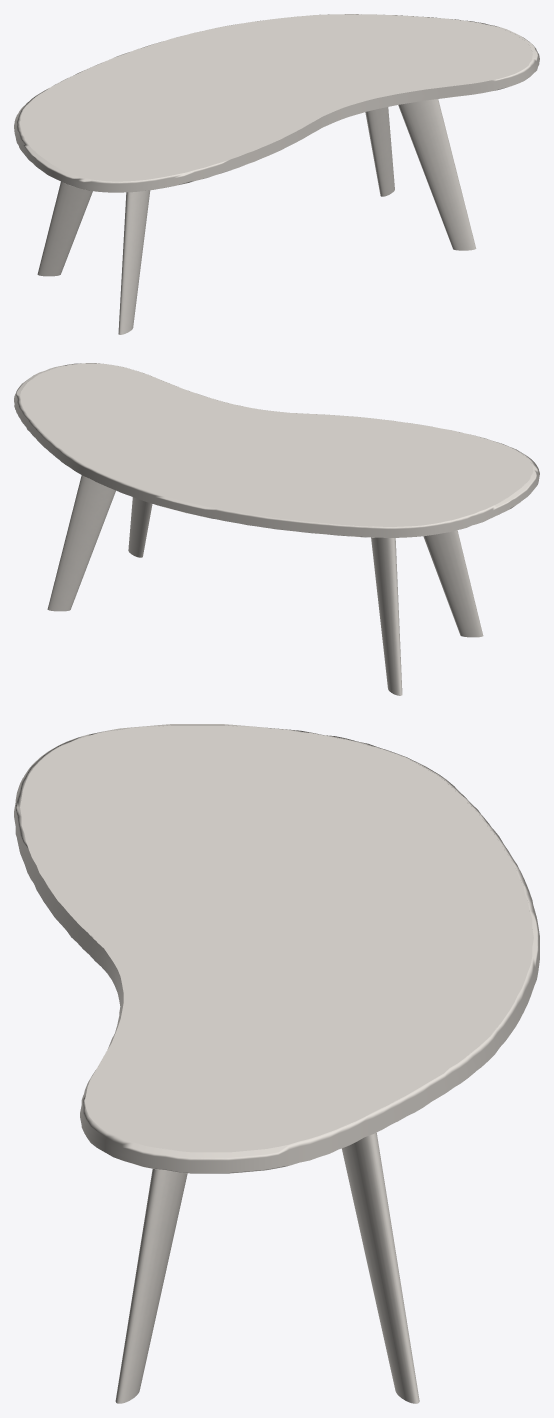
File: pearlwhite_leaf1_round_ferdinantwalnut.glb
3 renders of one model, top to bottom at view 1: azimuth 30°, elevation 25°; view 2: azimuth 150°, elevation 25°; view 3: azimuth 270°, elevation 25°, orthographic. The views are drawn at different scales.
Parts seen in each view (by area): view 1: round_leaf1, ferdinandwalnut; view 2: round_leaf1, ferdinandwalnut; view 3: round_leaf1, ferdinandwalnut.
Boxes of the visible parts, x1,y1,x2,y2 form: round_leaf1: [14, 14, 539, 192]; ferdinandwalnut: [37, 99, 476, 334]; round_leaf1: [14, 363, 539, 537]; ferdinandwalnut: [47, 475, 483, 695]; round_leaf1: [14, 724, 539, 1173]; ferdinandwalnut: [115, 1132, 419, 1403].
Bounding box in the file's own units: 7.49 × 2.51 × 3.8.
1 material, 1 textured.
